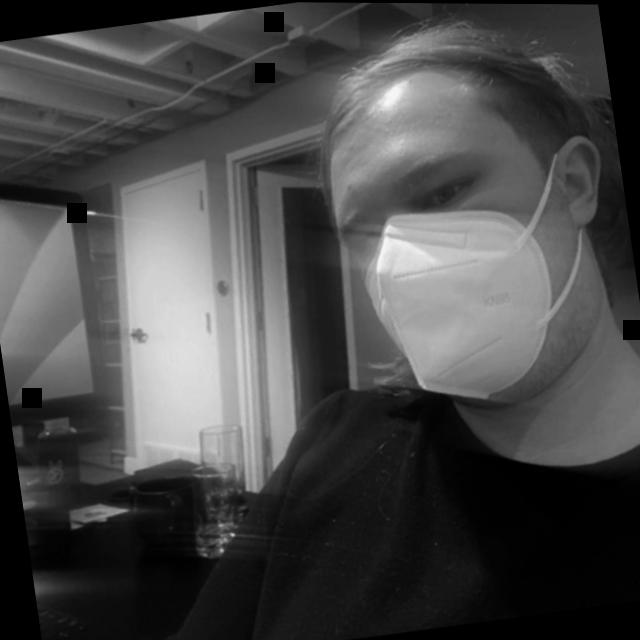Mask: (279, 2, 640, 504)
